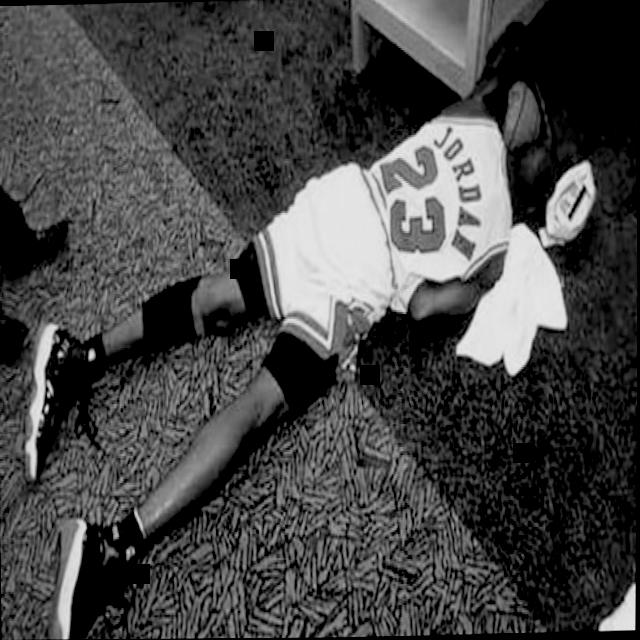Fall-Detected: (15, 0, 605, 636)
